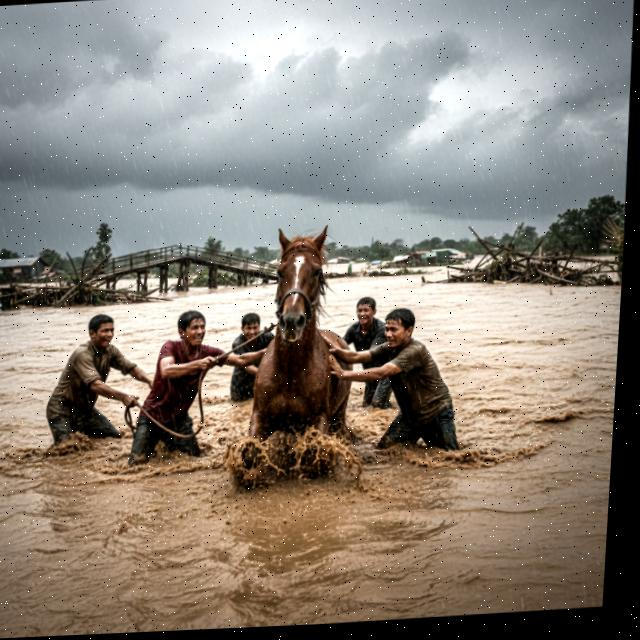civilian: (315, 299, 470, 469), (127, 302, 229, 475), (39, 300, 149, 454), (340, 283, 404, 419), (225, 310, 278, 401)
horse: (235, 205, 373, 474)
